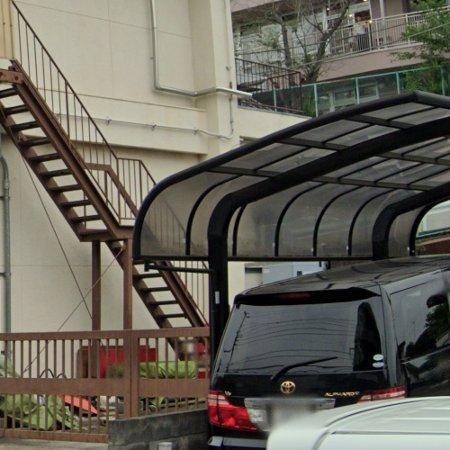stairs: (0, 0, 206, 328)
